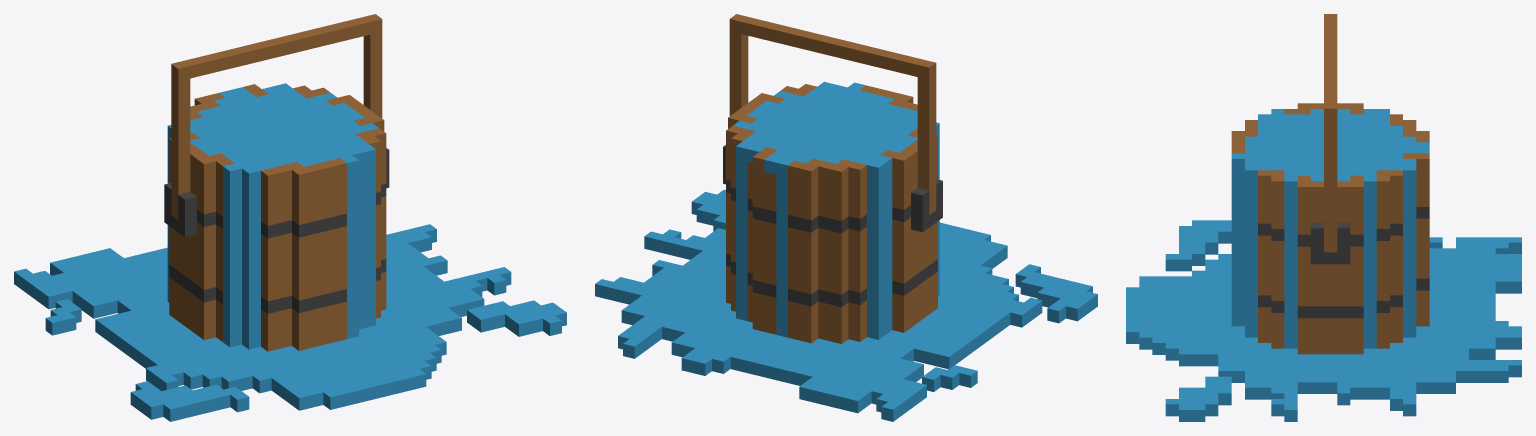
Rendered from WaterBucket.obj.
3 views of the same model, side by side, from view 1: azimuth 30°, elevation 25°; view 2: azimuth 150°, elevation 25°; view 3: azimuth 270°, elevation 25° (orthographic). The views are drawn at different scales.
Size of the model in its own units: 3.4 by 2.2 by 3.
Materials: 1 (1 with a texture image).
